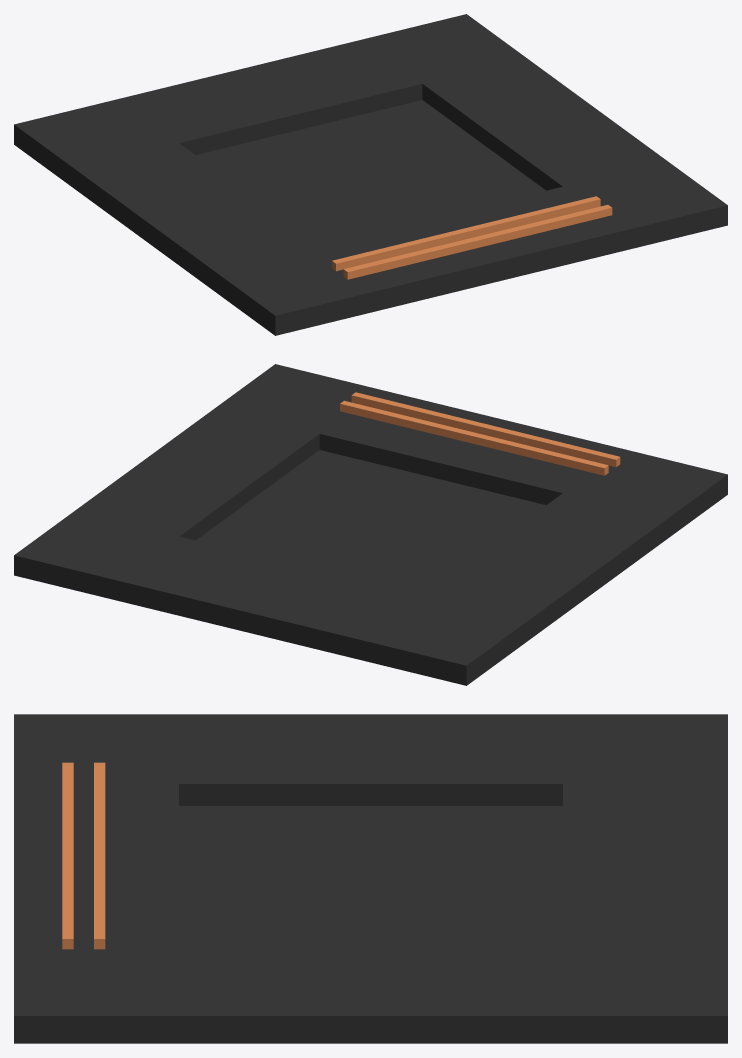
Rendered from sushiPlate.glb.
3 renders of one model, top to bottom at view 1: azimuth 30°, elevation 25°; view 2: azimuth 150°, elevation 25°; view 3: azimuth 270°, elevation 25°, orthographic. The views are drawn at different scales.
Parts seen in each view (by area): view 1: Plane, Cube.001, Cube; view 2: Plane, Cube, Cube.001; view 3: Plane, Cube.001, Cube.
Part boxes in pixels (x1,y1,x2,y2): Plane: [14, 14, 727, 335]; Cube.001: [343, 205, 612, 279]; Cube: [332, 196, 600, 271]; Plane: [14, 364, 727, 685]; Cube: [340, 400, 608, 475]; Cube.001: [351, 392, 620, 467]; Plane: [14, 714, 727, 1043]; Cube.001: [62, 762, 73, 949]; Cube: [94, 762, 105, 949].
Size of the model in its own units: 7.94 by 0.4829 by 7.94.
